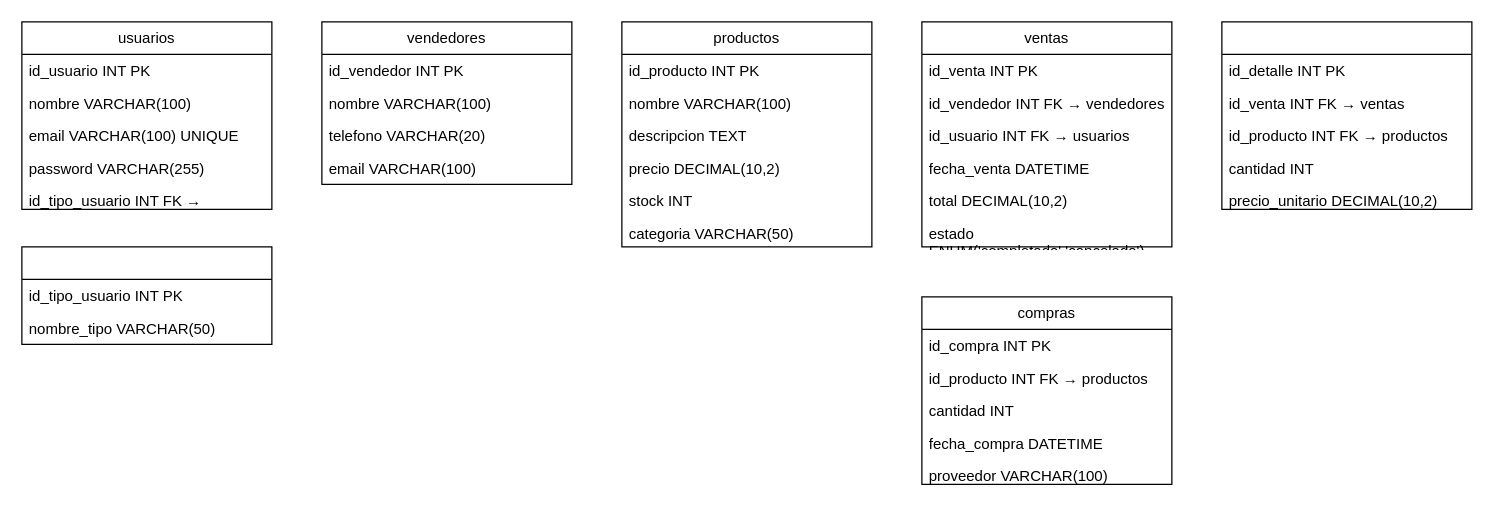
Some shapes in this 1494 by 510 pixel diagram are drawn without their labels. Here are the shapes that lost their labels. From the top down, the box of each, then its label:
(1221, 21, 1472, 209): detalle_ventas
(21, 246, 272, 344): tipos_usuario
